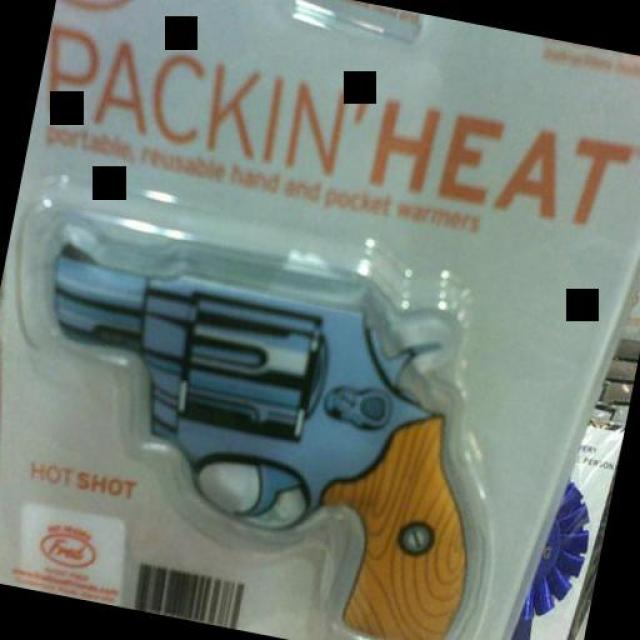gun: (0, 216, 520, 640)
